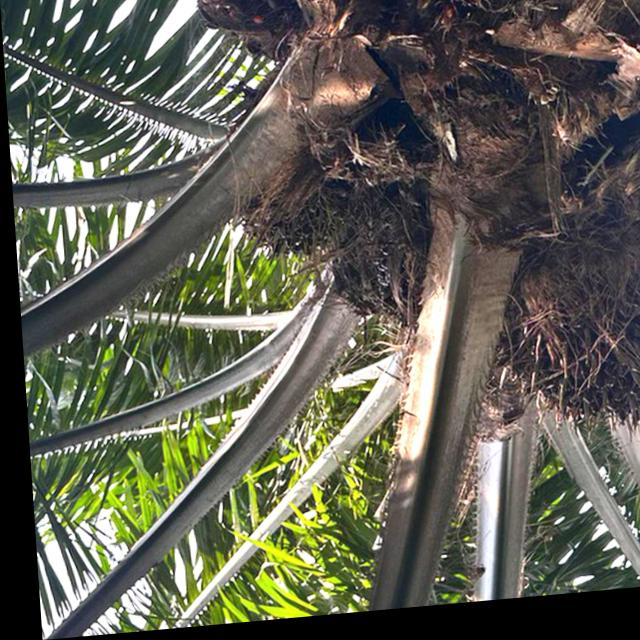unripe: (221, 124, 399, 273)
